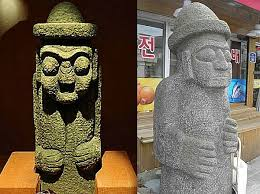Stone Statue: (147, 1, 246, 194), (26, 2, 109, 194)
